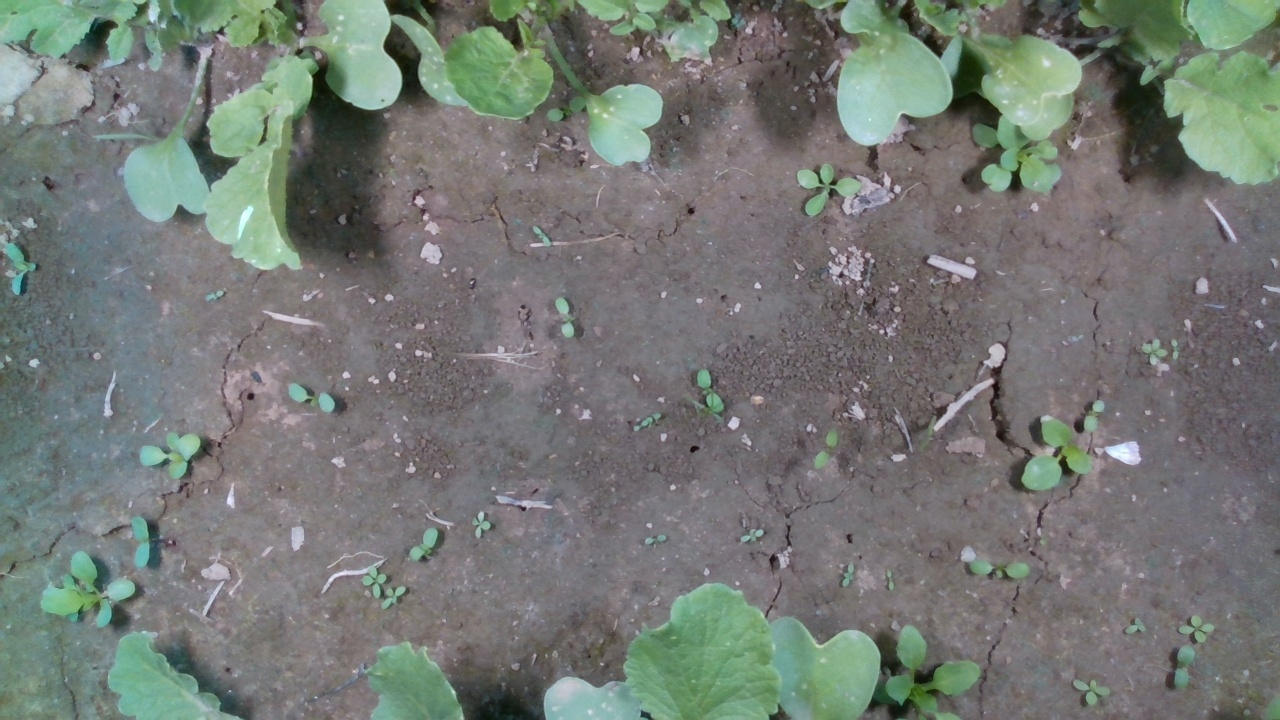weed: (794, 161, 861, 217), (285, 381, 336, 413), (128, 512, 152, 571), (967, 558, 1030, 580), (695, 367, 725, 413), (1176, 612, 1215, 644), (1174, 642, 1197, 693), (408, 525, 438, 564), (1072, 678, 1112, 707), (811, 427, 837, 471), (552, 295, 576, 340), (360, 561, 388, 599), (1083, 397, 1105, 434), (1139, 337, 1168, 365), (471, 509, 492, 540), (530, 226, 553, 248), (738, 526, 765, 543), (841, 559, 856, 587), (1123, 617, 1146, 635), (883, 566, 895, 591), (643, 533, 668, 545), (1170, 336, 1179, 361)
